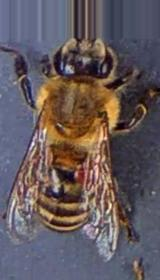varroa_mite: (65, 156, 104, 188)
